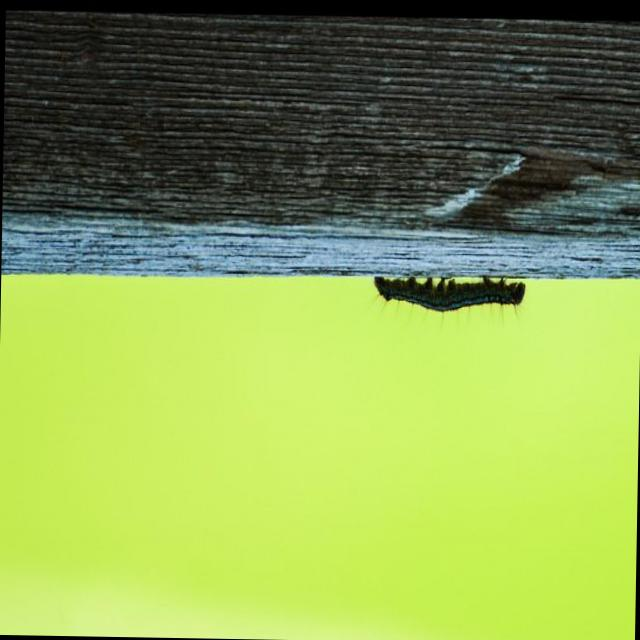armyworm: (369, 266, 533, 329)
